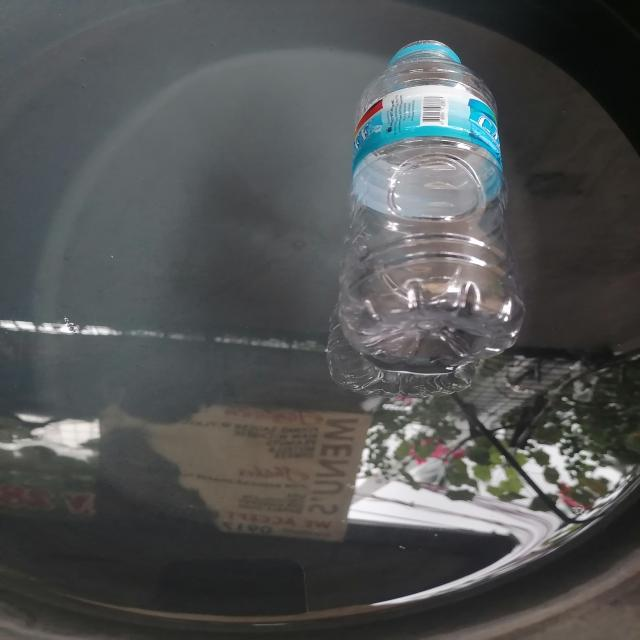Plastic Bottle: (342, 41, 524, 374)
